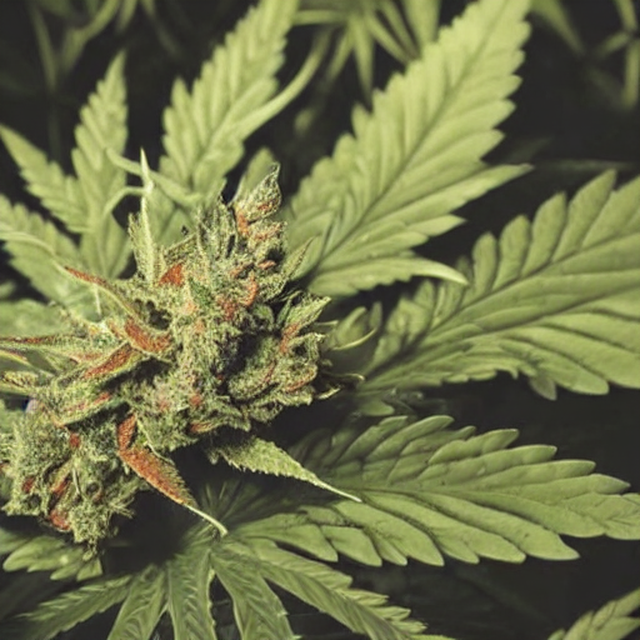Marijuana Plant: (0, 68, 640, 640)
